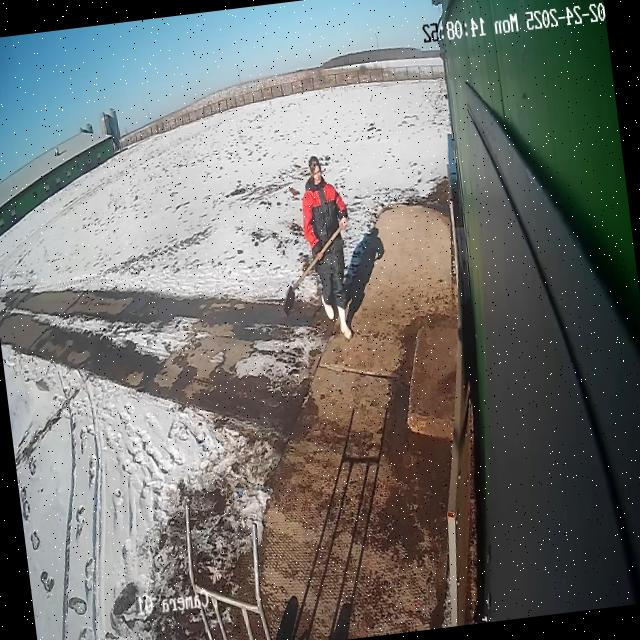Red uniform: (294, 152, 364, 346)
